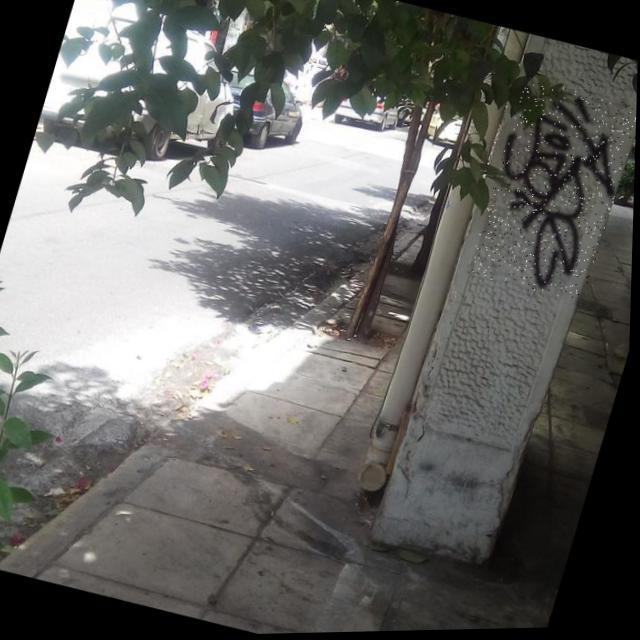-: (468, 78, 638, 307)
